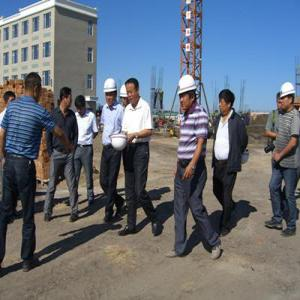none: (24, 72, 45, 103), (219, 89, 237, 114), (126, 77, 142, 105), (60, 86, 74, 112), (75, 95, 87, 118), (4, 91, 17, 108)
white: (179, 73, 198, 112), (279, 82, 297, 114), (102, 76, 118, 107), (121, 86, 130, 108)
